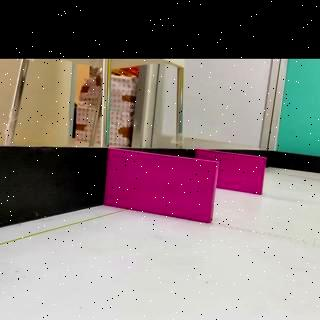xparking: (103, 149, 217, 224)
